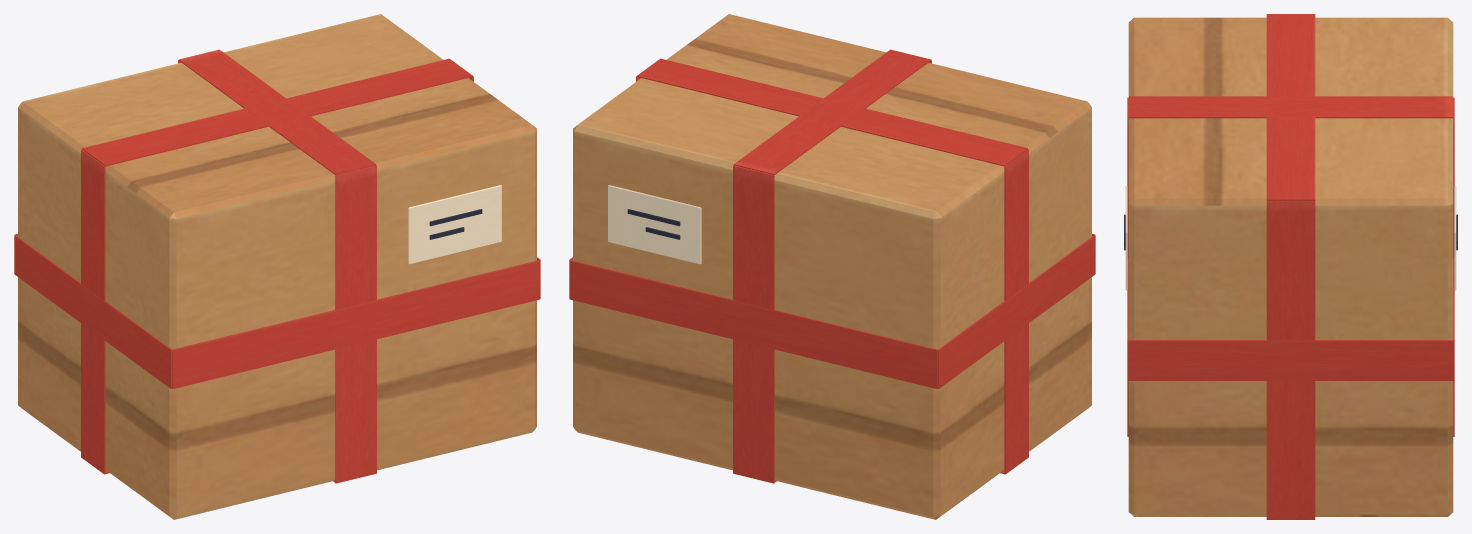
The model's file is parcel.glb.
3 views of the same model, side by side, from view 1: azimuth 30°, elevation 25°; view 2: azimuth 150°, elevation 25°; view 3: azimuth 270°, elevation 25° (orthographic). The views are drawn at different scales.
Visible parts, largest first — view 1: kraft_box, tape_side_horizontal, tape_side_vertical, tape_top_x.001, tape_end_vertical, tape_top_y.001, tape_end_horizontal, shipping_label; view 2: kraft_box, tape_side_horizontal.001, tape_side_vertical.001, tape_top_x.001, tape_end_vertical, tape_top_y.001, tape_end_horizontal, shipping_label.001; view 3: kraft_box, tape_end_vertical.001, tape_end_horizontal.001, tape_top_x.001, tape_top_y.001, tape_side_vertical, tape_side_vertical.001.
Boxes of the visible parts, x1,y1,x2,y2 form: kraft_box: [18, 14, 536, 519]; tape_side_horizontal: [172, 260, 540, 388]; tape_side_vertical: [335, 165, 376, 483]; tape_top_x.001: [82, 58, 472, 166]; tape_end_vertical: [81, 149, 105, 474]; tape_top_y.001: [178, 49, 376, 175]; tape_end_horizontal: [14, 235, 171, 388]; shipping_label: [408, 185, 501, 264]; kraft_box: [573, 14, 1091, 519]; tape_side_horizontal.001: [569, 260, 937, 388]; tape_side_vertical.001: [733, 165, 774, 483]; tape_top_x.001: [637, 58, 1027, 166]; tape_end_vertical: [1004, 149, 1028, 474]; tape_top_y.001: [733, 49, 931, 175]; tape_end_horizontal: [938, 235, 1095, 388]; shipping_label.001: [608, 185, 701, 264]; kraft_box: [1128, 17, 1453, 516]; tape_end_vertical.001: [1266, 201, 1315, 519]; tape_end_horizontal.001: [1128, 340, 1453, 380]; tape_top_x.001: [1266, 14, 1315, 200]; tape_top_y.001: [1128, 96, 1453, 118]; tape_side_vertical: [1127, 97, 1128, 436]; tape_side_vertical.001: [1453, 97, 1454, 436].
Size of the model in its own units: 0.654 by 0.5222 by 0.4937.
Materials: 1 (1 with a texture image).
